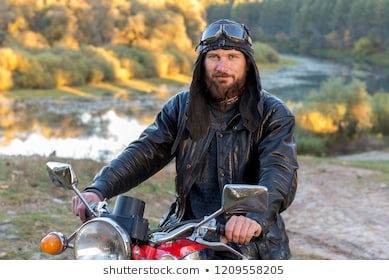with_helmet: (195, 17, 255, 69)
